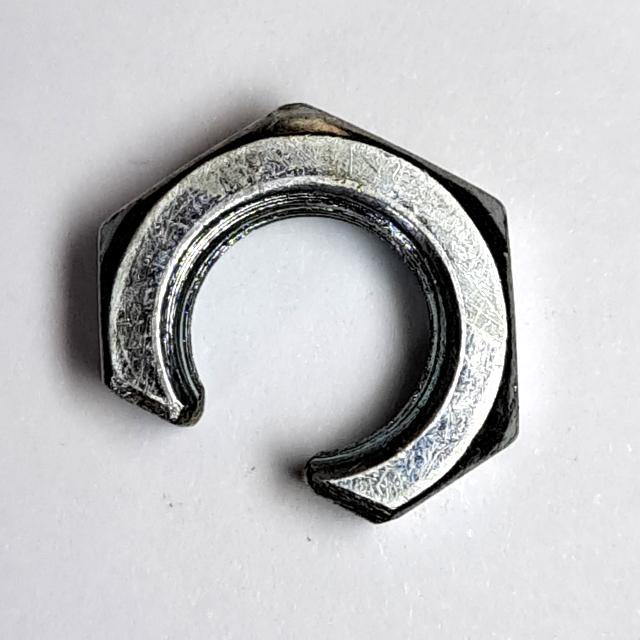Fracture: (76, 81, 536, 548)
